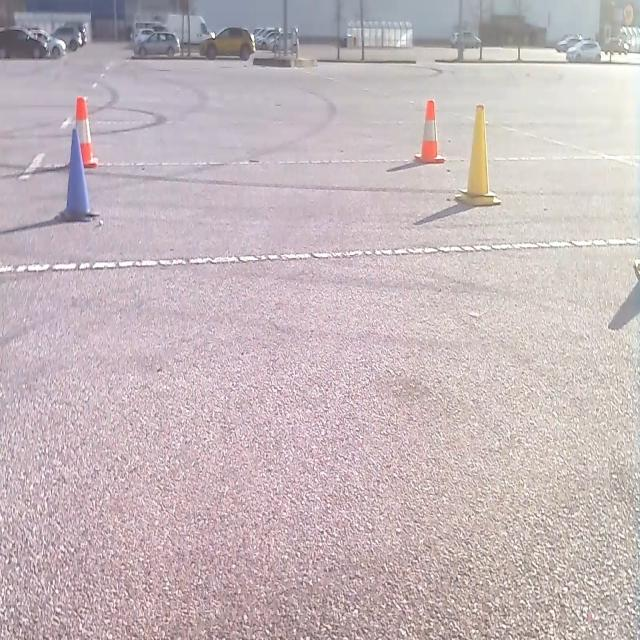blue_cone: (55, 126, 99, 224)
orange_cone: (413, 97, 445, 164), (74, 94, 98, 167)
yellow_cone: (454, 102, 501, 206)
